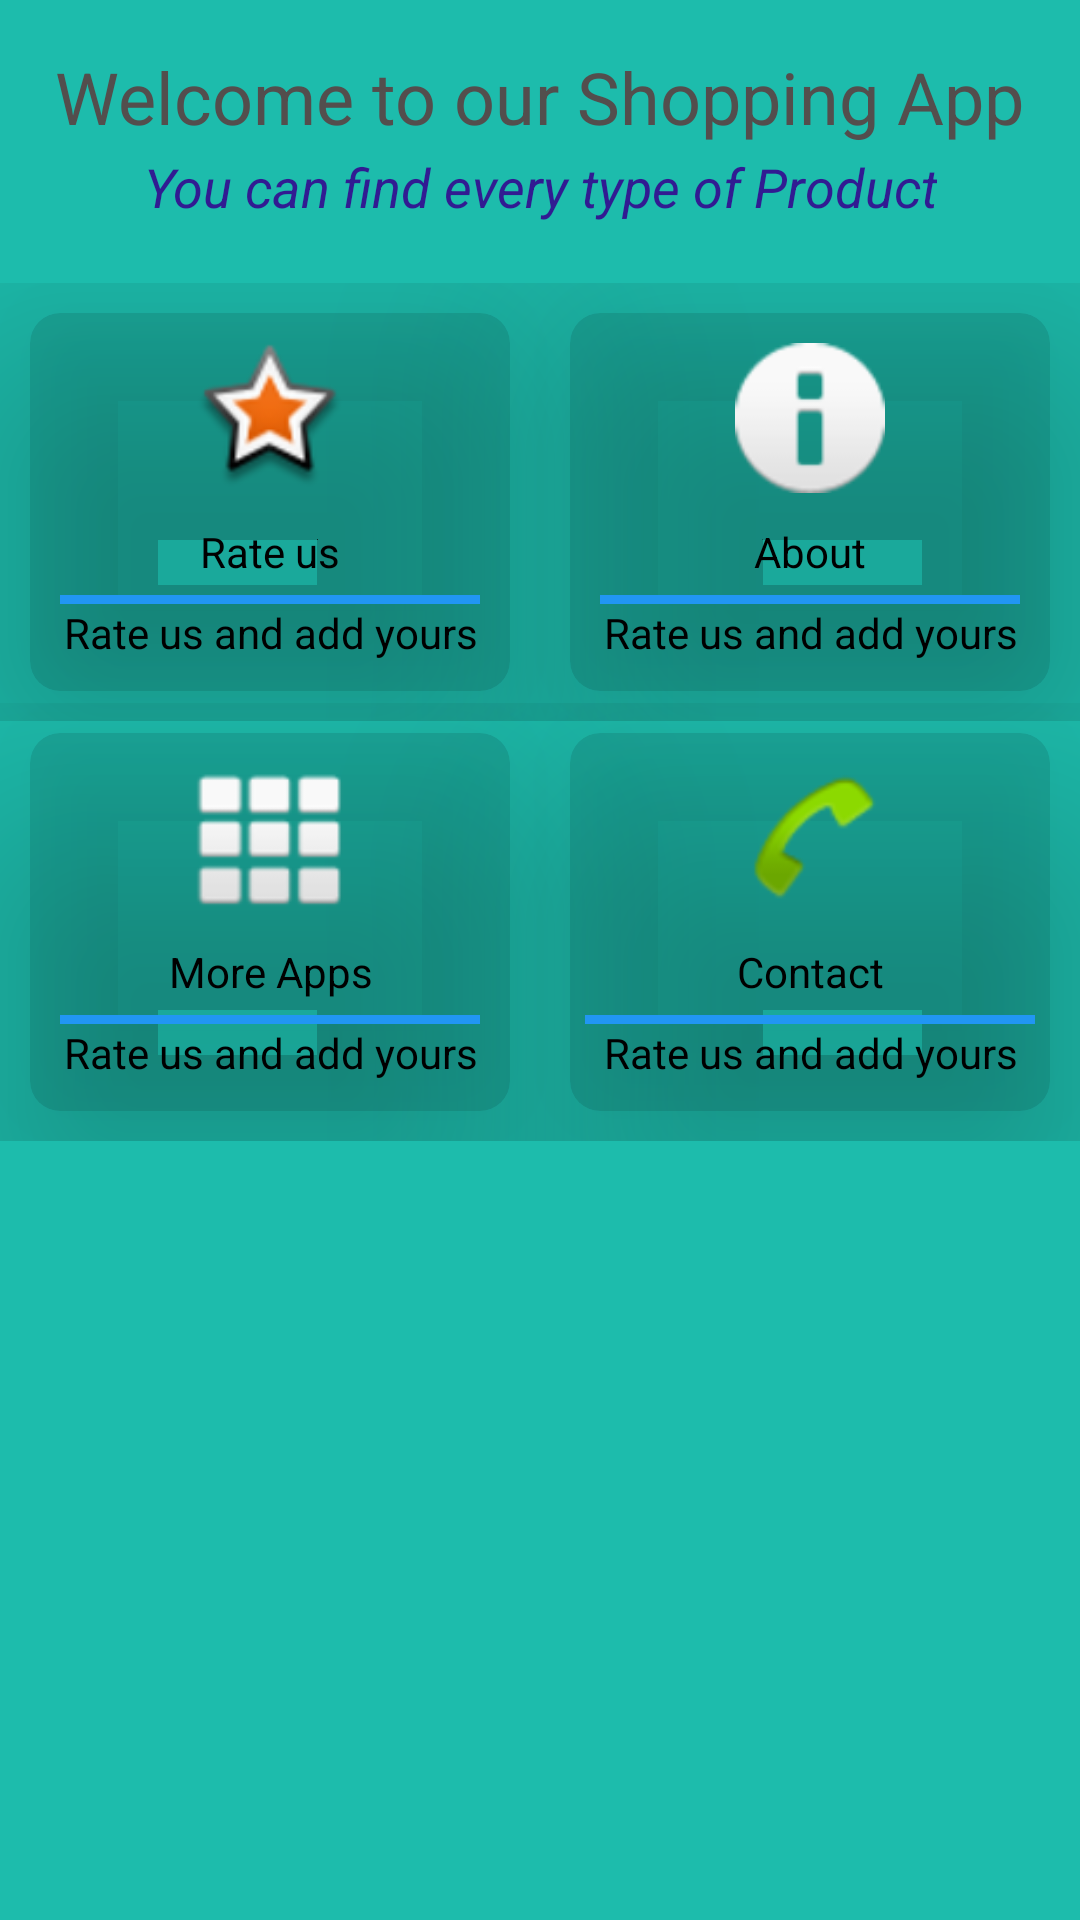

Where icons sit on this 1080 x 1920 app screen, as box(x1, y1, x2, y2):
dialer: box(197, 775, 341, 905)
info: box(735, 343, 885, 493)
star on: box(204, 345, 335, 479)
sym action call: box(754, 777, 874, 897)
